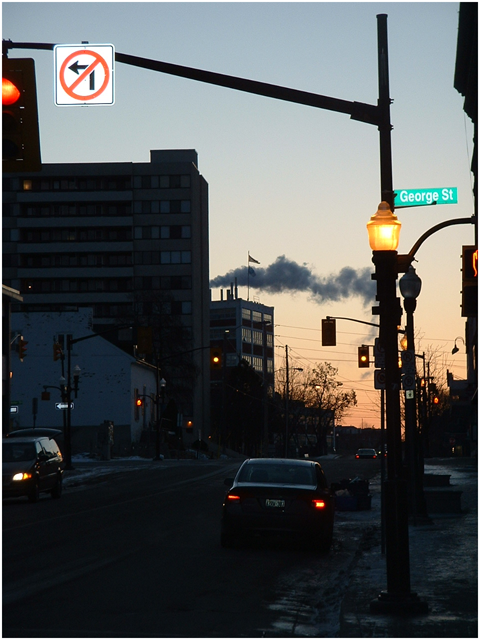car: (213, 457, 344, 556)
